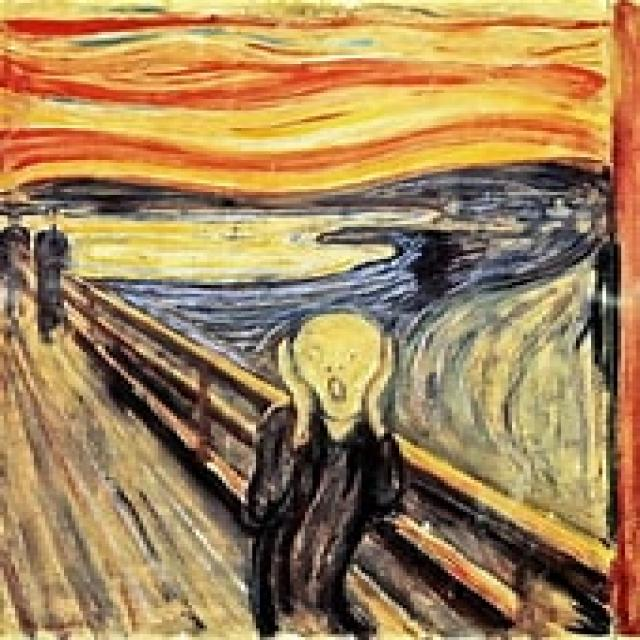skrik: (5, 10, 631, 631)
